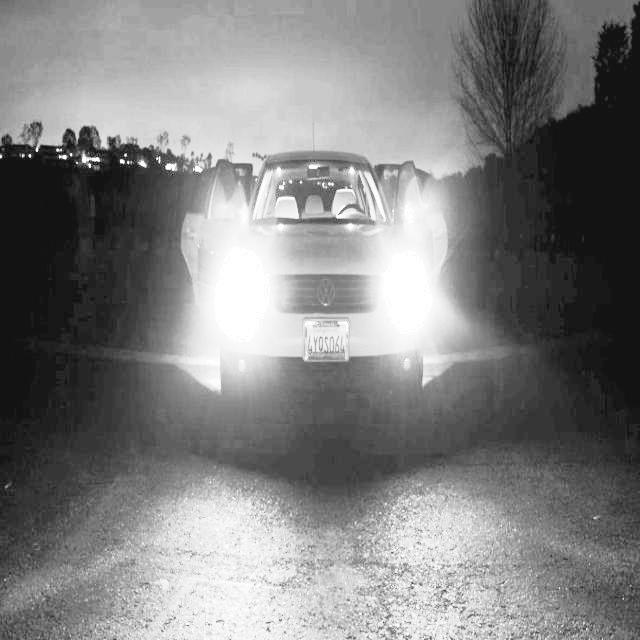Car: (185, 130, 458, 487)
